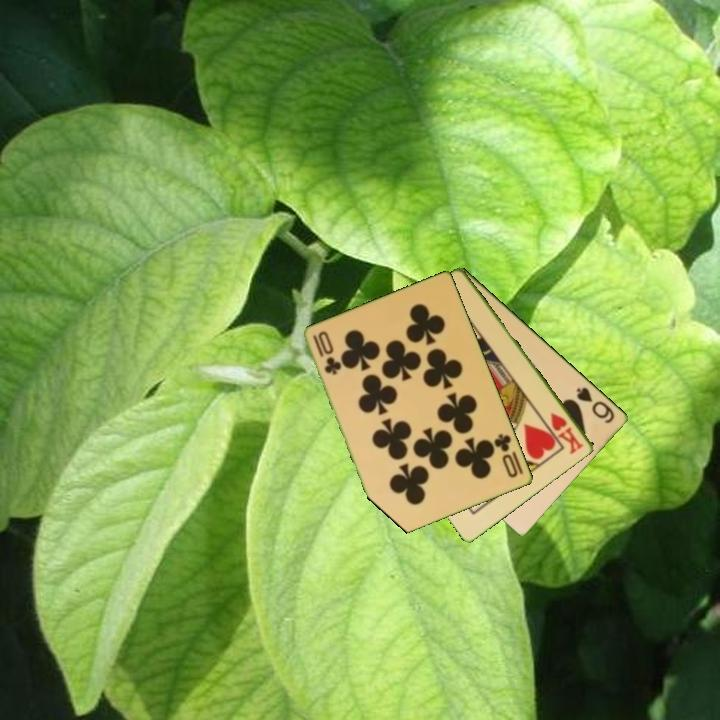10c: (310, 331, 343, 378), (491, 430, 521, 481)
6s: (573, 384, 618, 427)
Kh: (547, 409, 587, 457)
